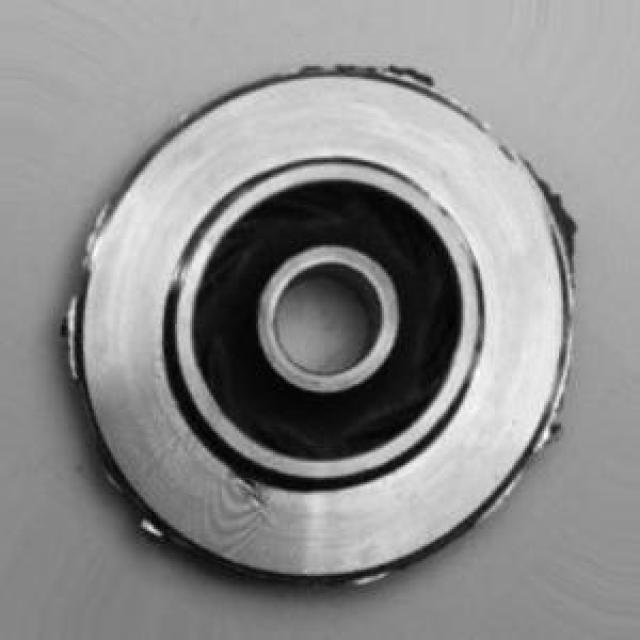Defect: (542, 168, 589, 285)
